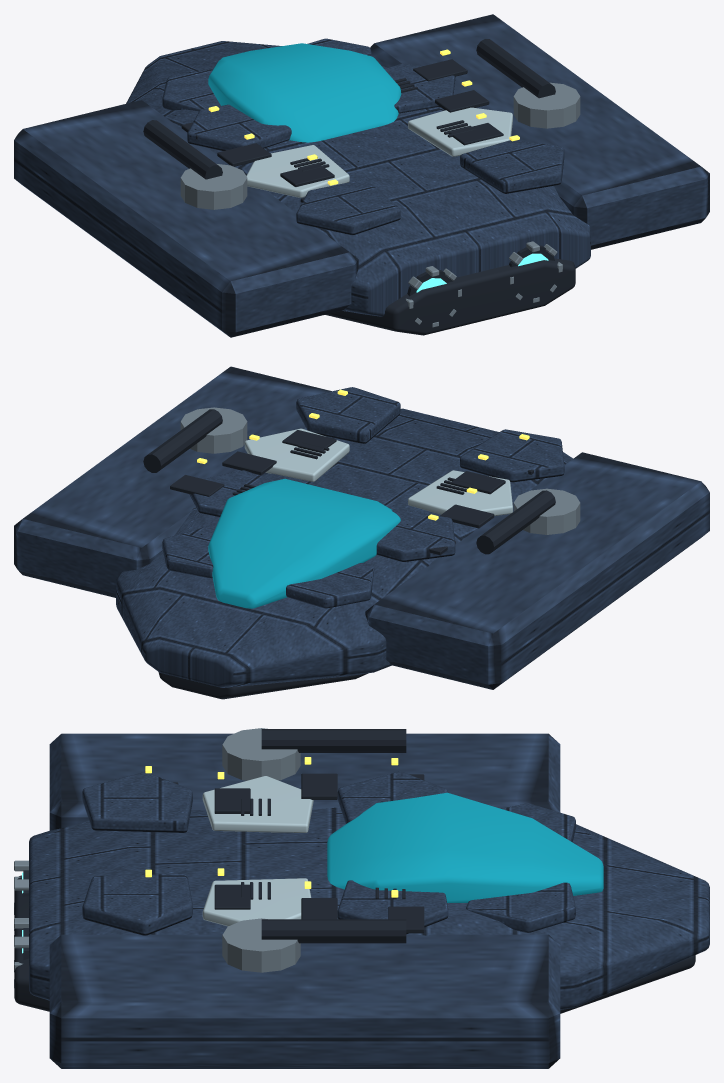
File: aegis.glb
3 views of the same model, one above another, from view 1: azimuth 30°, elevation 25°; view 2: azimuth 150°, elevation 25°; view 3: azimuth 270°, elevation 25° (orthographic). The views are drawn at different scales.
Visible parts, largest first — view 1: Gôndola do motor.001 · exportação, Canhão.001 · exportação, Cabine panorâmica · exportação, Torreta.001 · exportação, Colar da turbina.004 · exportação; view 2: Gôndola do motor.001 · exportação, Cabine panorâmica · exportação, Canhão.001 · exportação, Colar da turbina.004 · exportação, Torreta.001 · exportação; view 3: Gôndola do motor.001 · exportação, Cabine panorâmica · exportação, Canhão.001 · exportação, Colar da turbina.004 · exportação, Torreta.001 · exportação.
Boxes of the visible parts, x1,y1,x2,y2 form: Gôndola do motor.001 · exportação: (14, 14, 709, 337); Canhão.001 · exportação: (143, 39, 575, 335); Cabine panorâmica · exportação: (208, 43, 401, 142); Torreta.001 · exportação: (180, 82, 580, 327); Colar da turbina.004 · exportação: (246, 107, 512, 197); Gôndola do motor.001 · exportação: (14, 366, 709, 689); Cabine panorâmica · exportação: (208, 478, 400, 608); Canhão.001 · exportação: (143, 409, 555, 699); Colar da turbina.004 · exportação: (244, 428, 512, 515); Torreta.001 · exportação: (180, 407, 580, 534); Gôndola do motor.001 · exportação: (29, 733, 709, 1068); Cabine panorâmica · exportação: (327, 792, 603, 902); Canhão.001 · exportação: (14, 729, 695, 1013); Colar da turbina.004 · exportação: (202, 776, 313, 926); Torreta.001 · exportação: (14, 728, 300, 987).
Size of the model in its own units: 45.58 by 12.49 by 48.07.
Materials: 7 (1 with a texture image).
